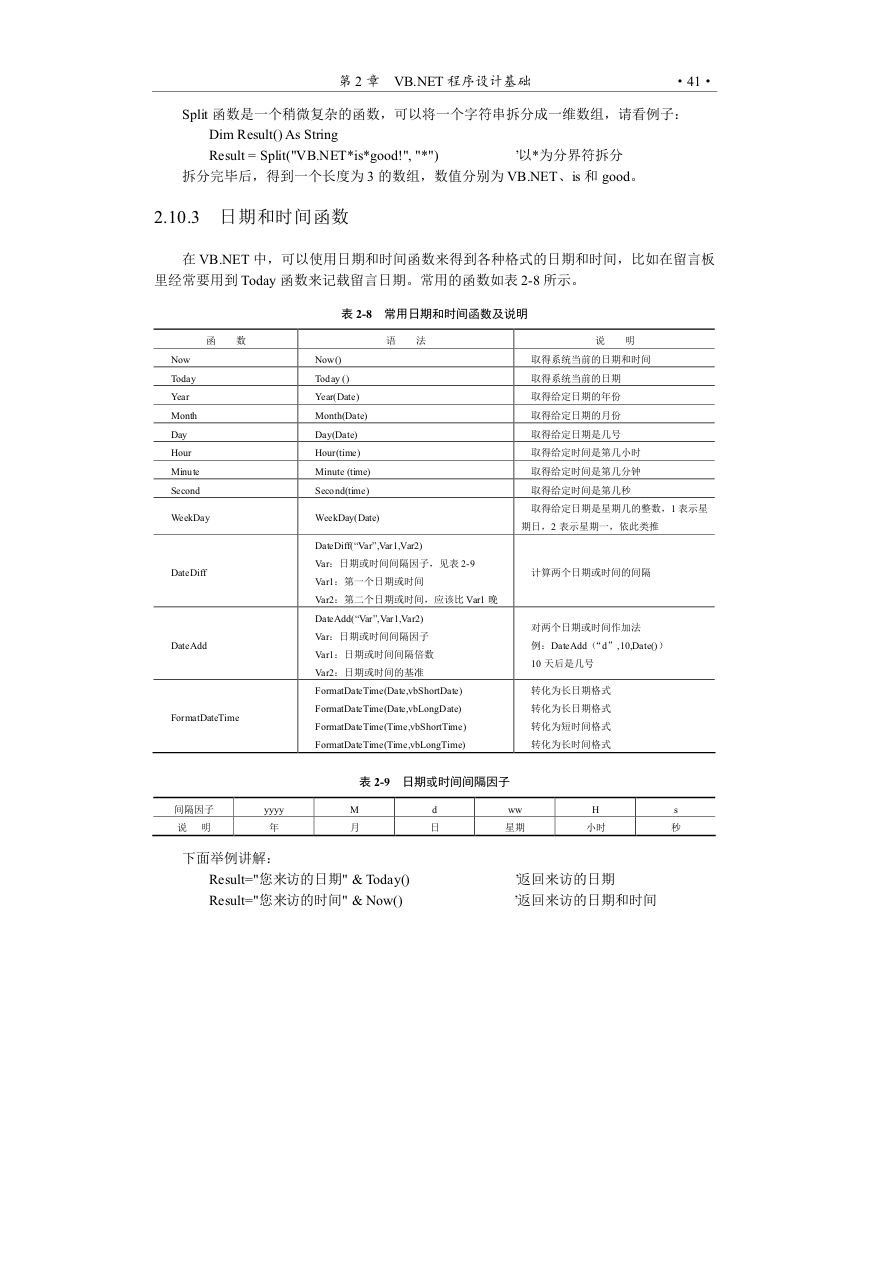table: (152, 328, 714, 753), (152, 796, 716, 837)
